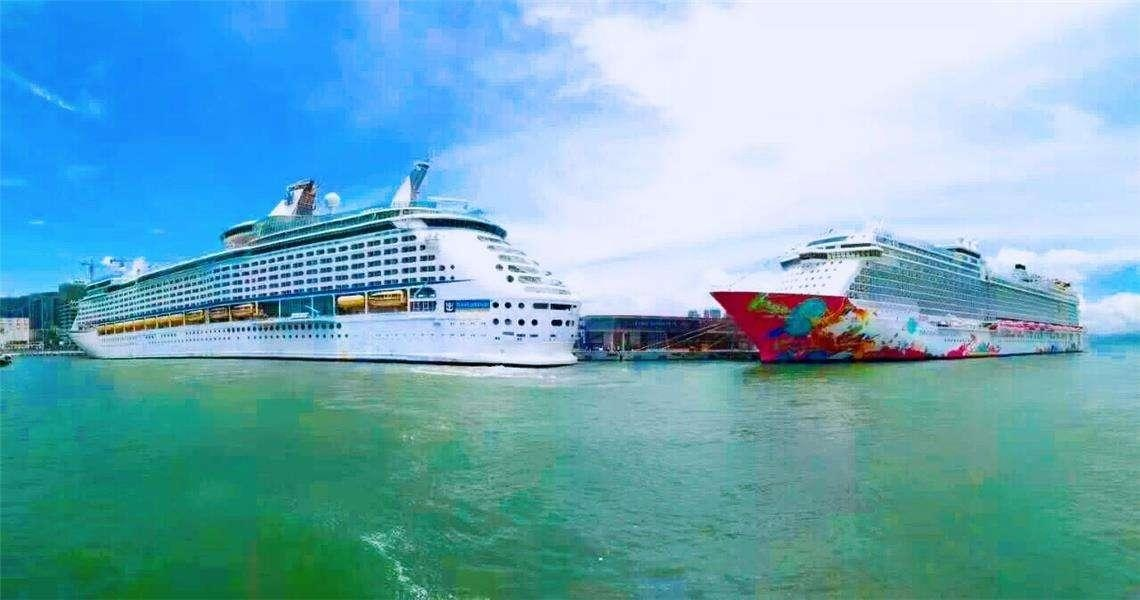youlun: (62, 157, 587, 366), (709, 225, 1094, 361)
